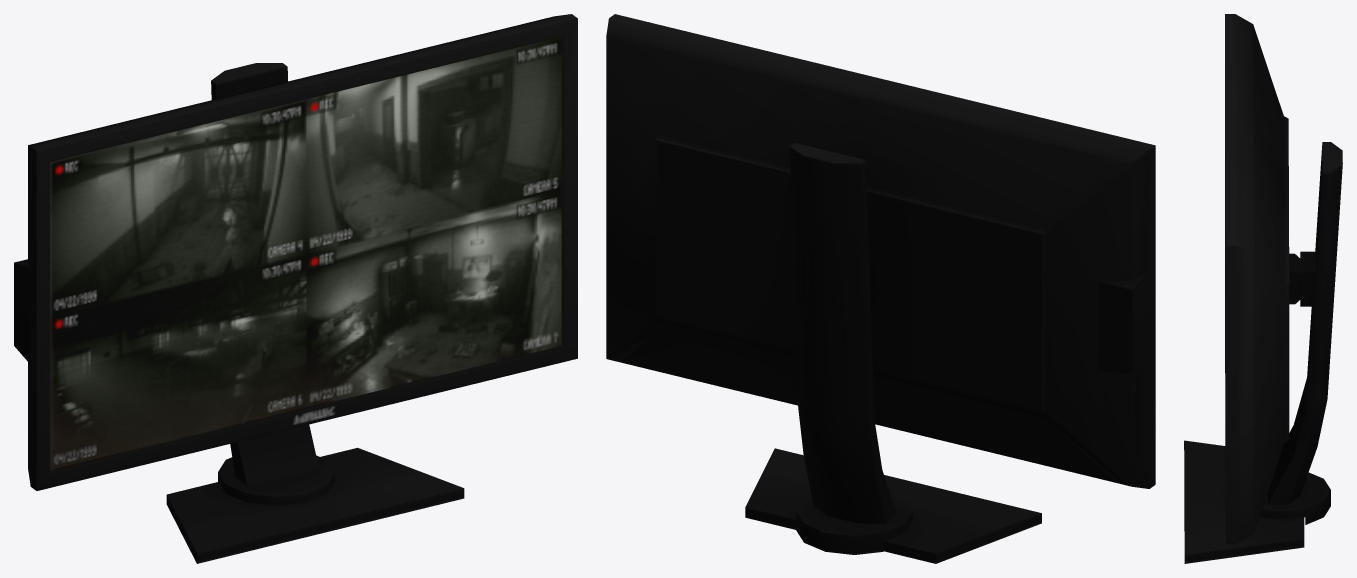
Rendered from Monitor 2.fbx.
The picture shows the model from 3 angles, left to right: view 1: azimuth 30°, elevation 25°; view 2: azimuth 150°, elevation 25°; view 3: azimuth 270°, elevation 25°; orthographic projection. The views are drawn at different scales.
Visible parts, largest first — view 1: Monitor_2; view 2: Monitor_2; view 3: Monitor_2.
Boxes of the visible parts, x1,y1,x2,y2 form: Monitor_2: (14,14,577,563); Monitor_2: (606,14,1155,563); Monitor_2: (1184,14,1342,563).
Bounding box in the file's own units: 41.88 × 31.73 × 12.11.
